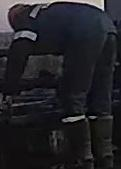helmet: (6, 3, 28, 31)
vest: (12, 1, 118, 67)
